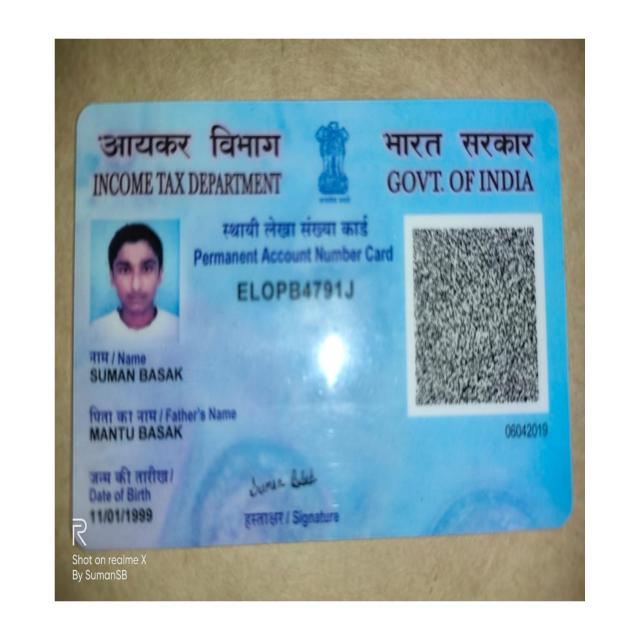pan_card: (78, 107, 571, 552)
